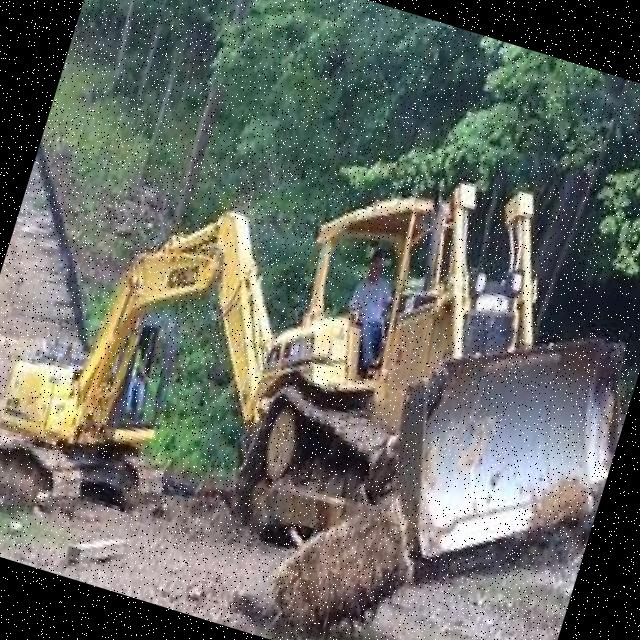Bulldozer: (194, 100, 640, 640)
Excavator: (0, 160, 304, 565)
